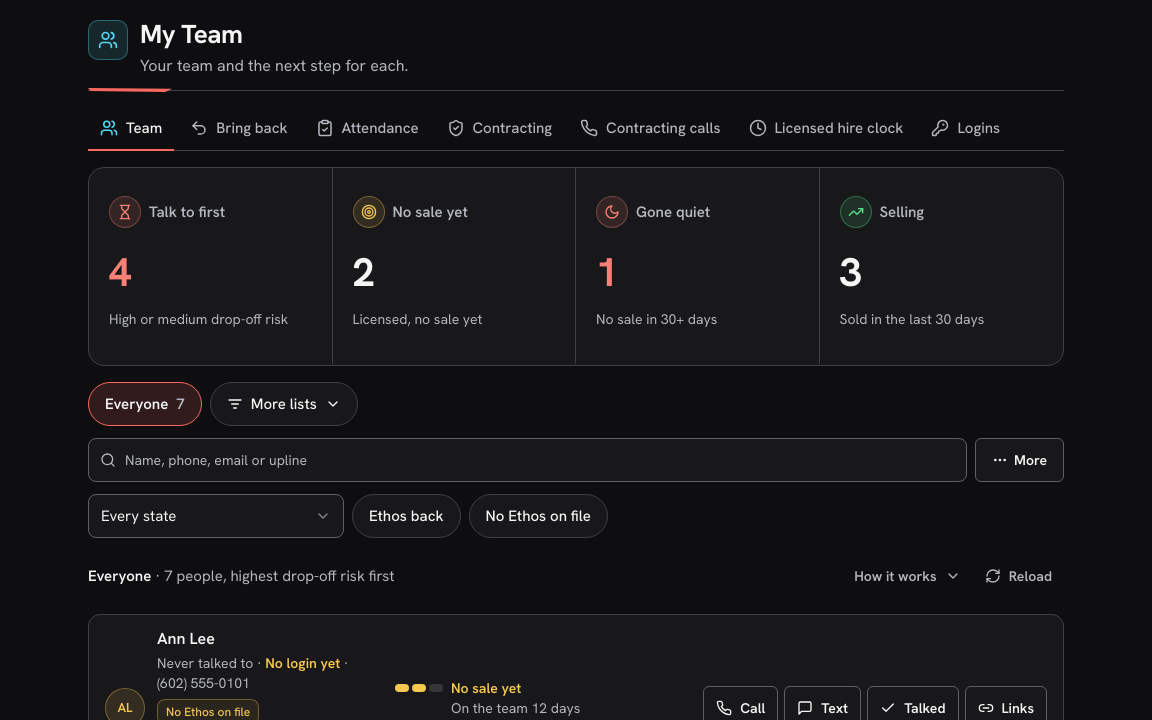
it: My Team: four numbers, one list › shows four numbers that each equal the list they open, and they add up to Everyone
Later steps or results of the test are not shown.
Expected: the text "Ann Lee" is shown, [157, 627, 215, 651]
What coordinates should you click on to do the following:
click the button "No sale yet 2 Licensed, no sale yet"
I would click on:
 (454, 266)
Its box is [332, 168, 576, 365].
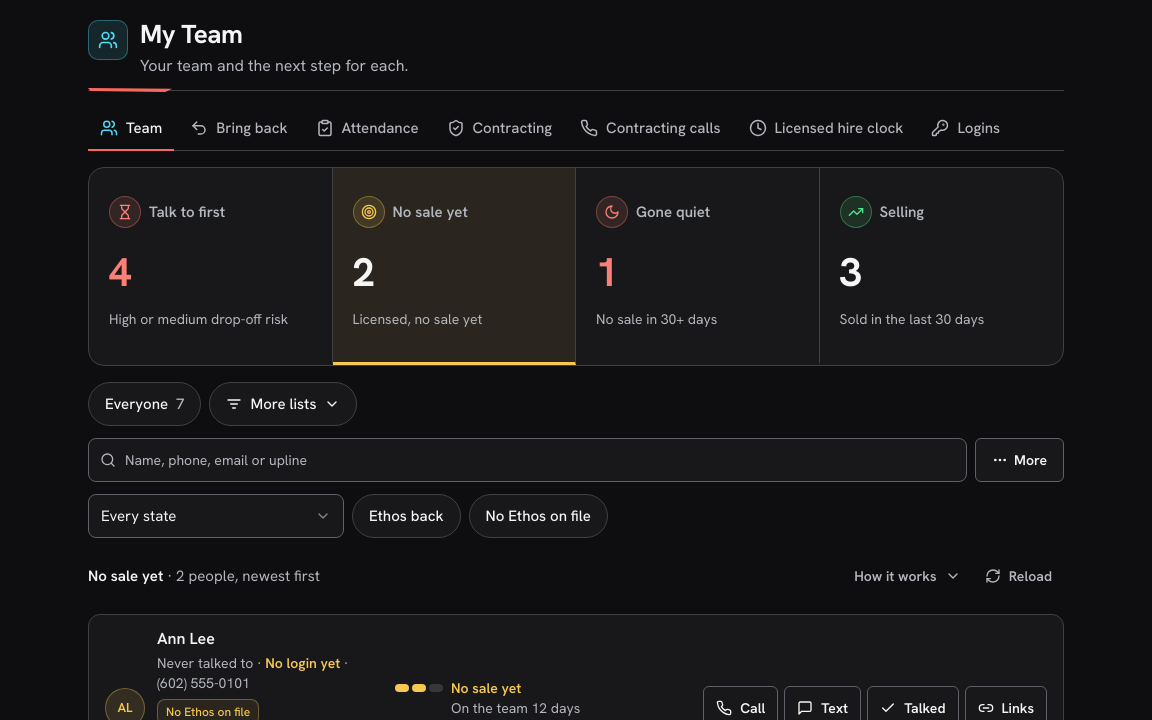
Result: the button "No sale yet 2 Licensed, no sale yet" is pressed at [332, 168, 576, 365]
What coordinates should you click on to do the following:
click the button "Selling 3 Sold in the last 30 days"
I would click on:
 (941, 266)
Its box is [820, 168, 1063, 365].
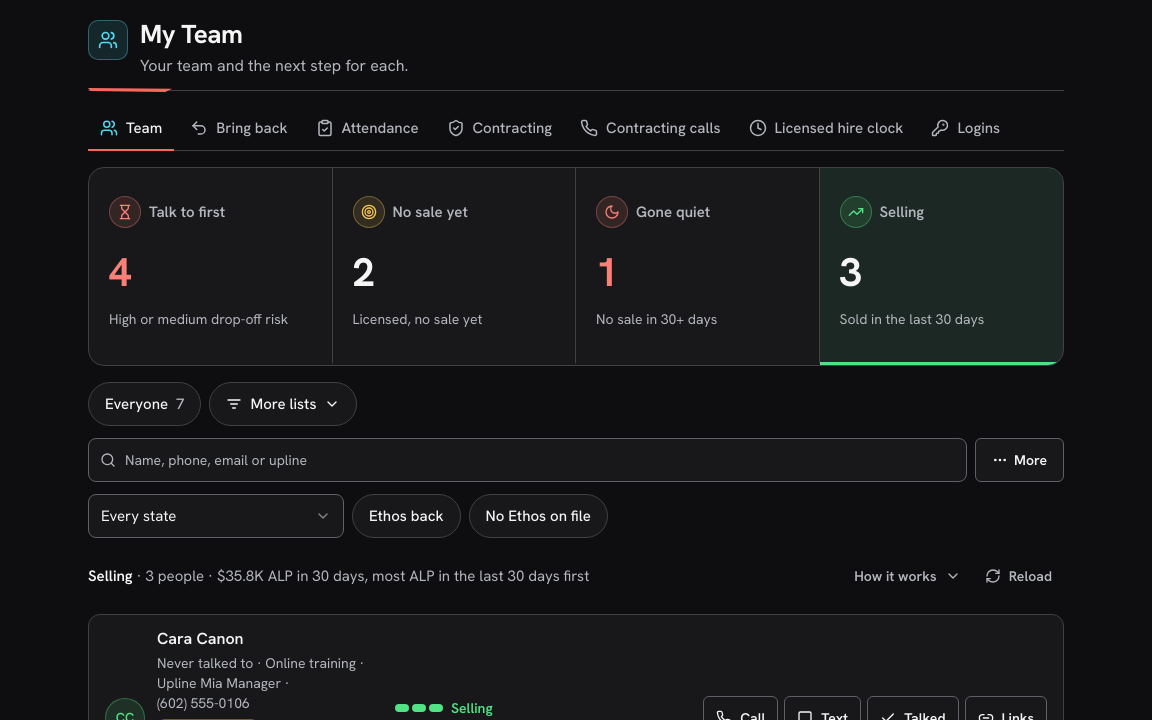
Result: the text "$35.8K ALP in 30 days" is shown at [217, 566, 364, 586]
